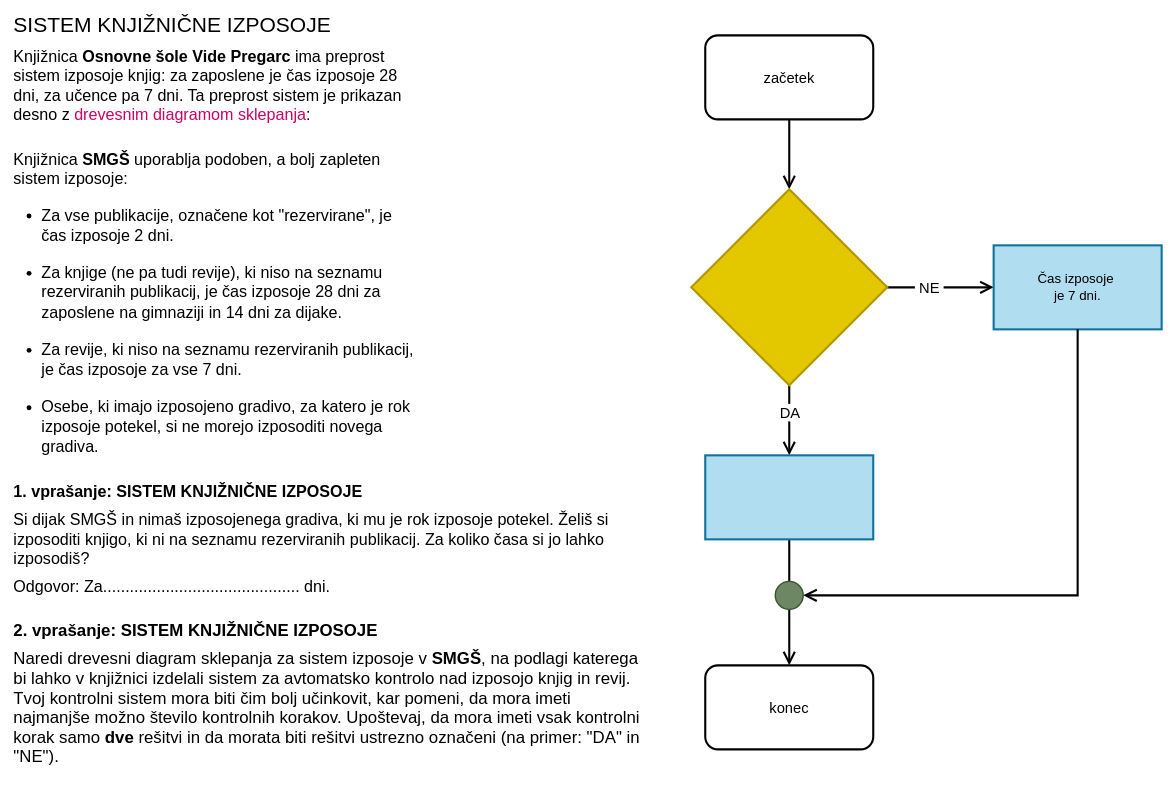
The diagram is 1175 pixels wide and 791 high, and some of its shapes have lost their labels. Each missing label, with the box of its shape:
Je oseba, ki si izposoja, zaposlena na šoli?: (690, 188, 888, 386)
Čas izposoje je 28 dni.: (704, 454, 874, 540)
